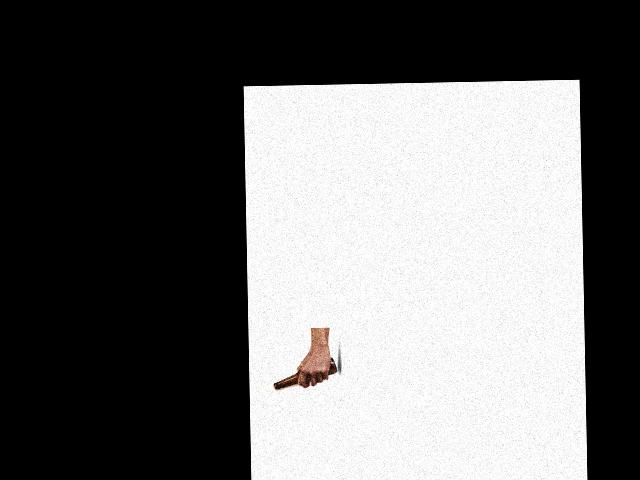beer: (273, 357, 338, 390)
